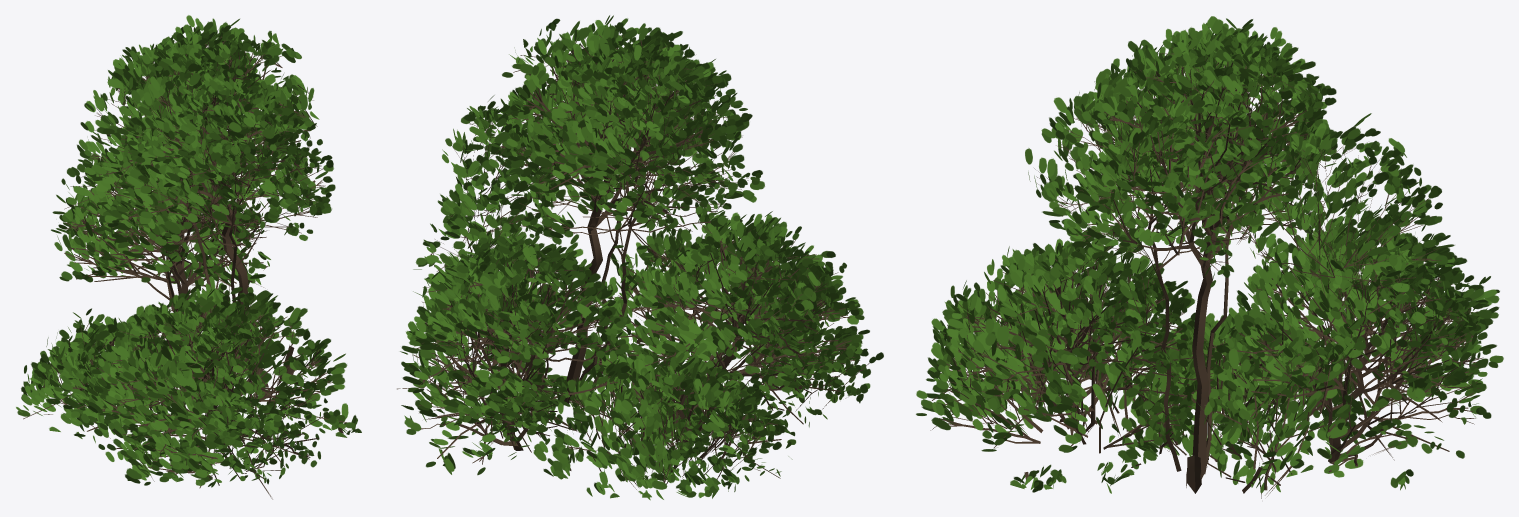
3 views of the same model, side by side, from view 1: azimuth 30°, elevation 25°; view 2: azimuth 150°, elevation 25°; view 3: azimuth 270°, elevation 25° (orthographic). The views are drawn at different scales.
Parts seen in each view (by area): view 1: oak 01.001_trunk_Mat.001_0.381; view 2: oak 01.001_trunk_Mat.001_0.381; view 3: oak 01.001_trunk_Mat.001_0.381.
Boxes of the visible parts, x1,y1,x2,y2 form: oak 01.001_trunk_Mat.001_0.381: (16,15,361,499); oak 01.001_trunk_Mat.001_0.381: (397,15,883,500); oak 01.001_trunk_Mat.001_0.381: (916,16,1503,498).
Size of the model in its own units: 3.2 by 4.33 by 5.23.
2 materials, 1 textured.
